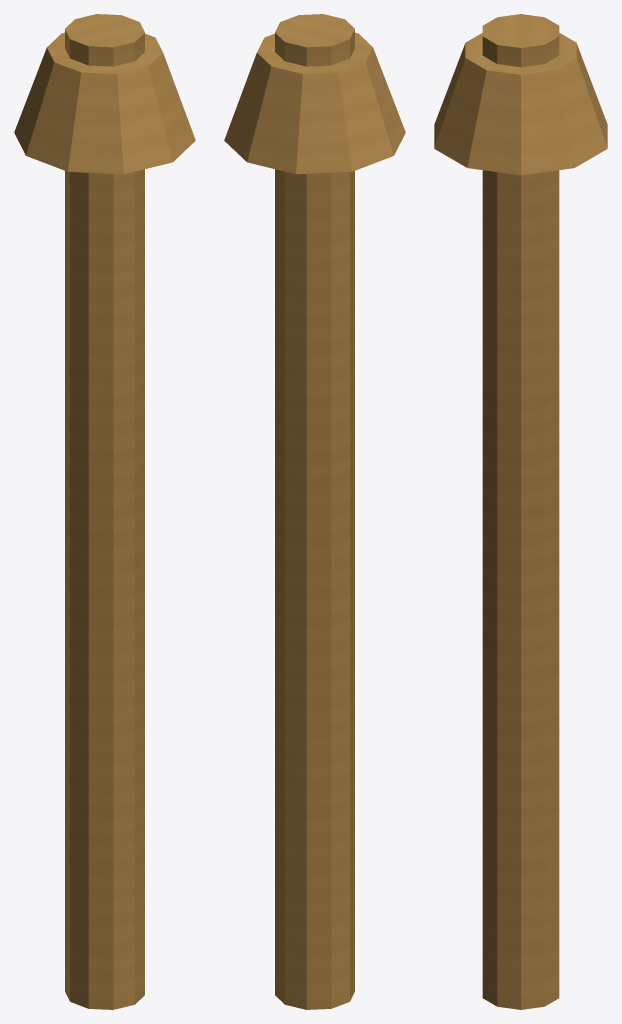
Rendered from SM_Theater_Lamp_HangerStem.fbx.
3 views of the same model, side by side, from view 1: azimuth 30°, elevation 25°; view 2: azimuth 150°, elevation 25°; view 3: azimuth 270°, elevation 25° (orthographic).
Visible parts, largest first — view 1: SM_Theater_Lamp_HangerStem_LOD0; view 2: SM_Theater_Lamp_HangerStem_LOD0; view 3: SM_Theater_Lamp_HangerStem_LOD0.
Part boxes in pixels (box(x1,y1,x2,y2)): SM_Theater_Lamp_HangerStem_LOD0: box(14, 14, 195, 1009); SM_Theater_Lamp_HangerStem_LOD0: box(224, 14, 405, 1009); SM_Theater_Lamp_HangerStem_LOD0: box(434, 14, 607, 1009).
Size of what is drawn, in the model's own units: 0.172 by 1 by 0.1636.
